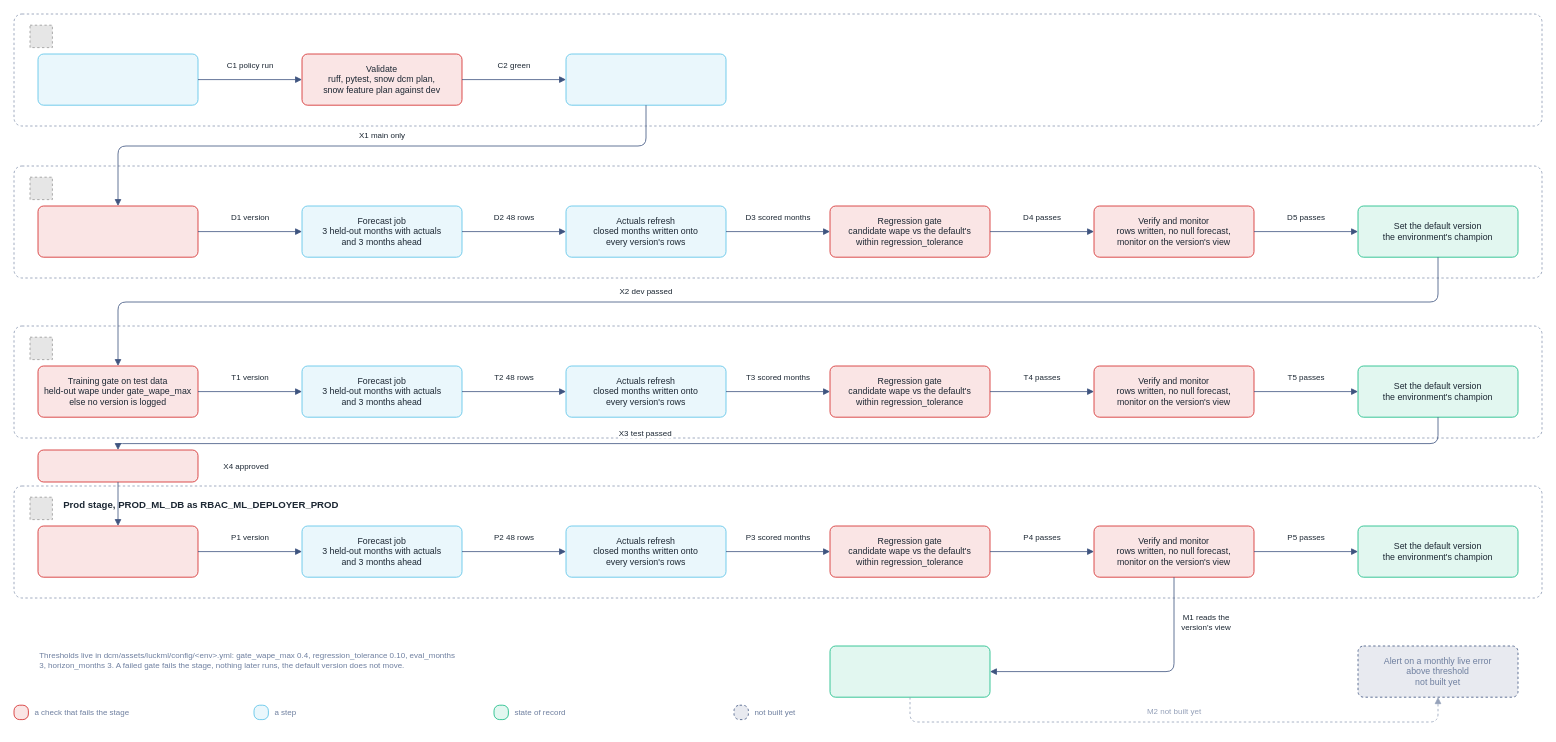
Some shapes in this 1556 by 742 pixel diagram are drawn without their labels. Grey dashed boxes stand in for pictures. Each missing label, with the box of its shape:
Approval check people, on the prod environment: (37, 449, 198, 482)
Code, Azure DevOps: (13, 13, 1542, 126)
Dev stage, DEV_ML_DB as RBAC_ML_DEPLOYER_DEV: (13, 165, 1542, 278)
Merge to main the pipeline continues to Dev: (565, 53, 726, 105)
Model monitor per version error and drift per month as actuals close: (829, 645, 990, 697)
Pull request branch policy, no direct push to main: (37, 53, 198, 105)
Test stage, TEST_ML_DB as RBAC_ML_DEPLOYER_TEST: (13, 325, 1542, 438)
Training gate held-out wape under gate_wape_max else no version is logged: (37, 205, 198, 257)
Training gate on prod data after the approval, and monthly by the task graph: (37, 525, 198, 577)
